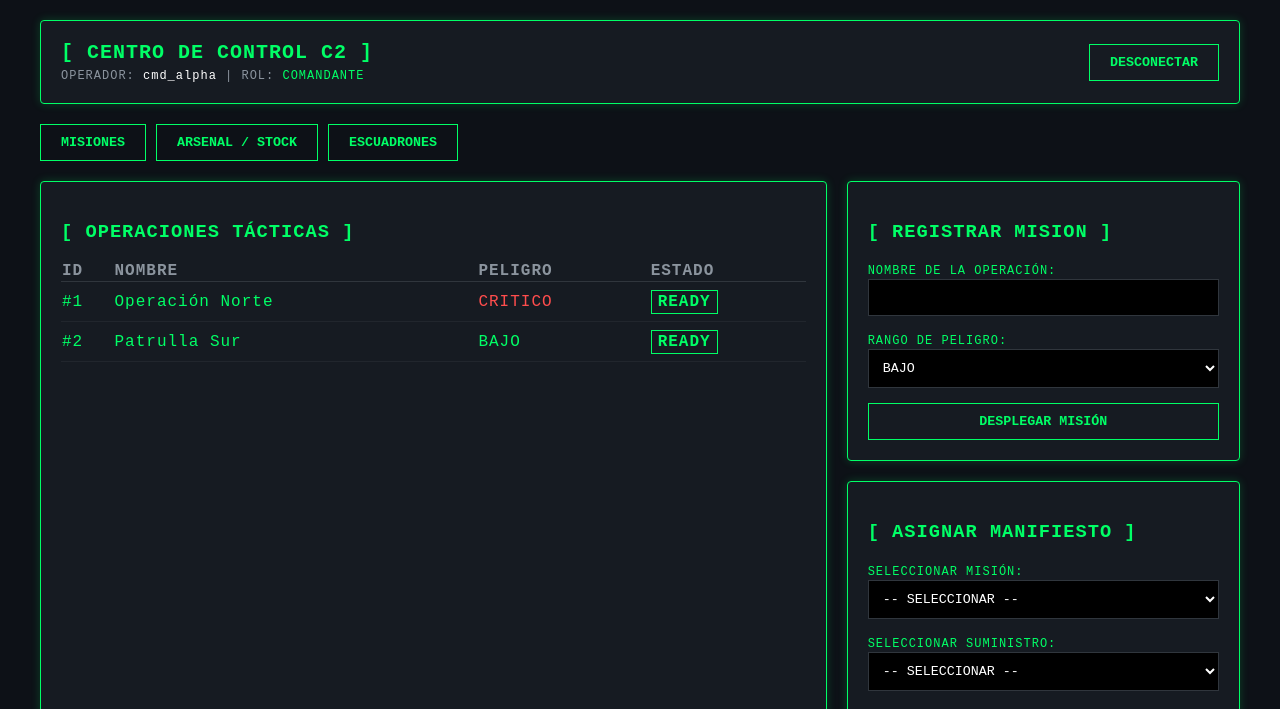
Test: Dashboard C2 y Subcomponentes (React) › renderiza datos iniciales, navega entre las 3 pestañas y actualiza estado vía WebSocket
Expected: the heading "[ CENTRO DE CONTROL C2 ]" is shown, [61,41,373,64]
Expected: the text "Operación Norte" is shown, [114,282,477,322]
Click the button "ARSENAL / STOCK".
click(237, 142)  # box [156,124,318,161]
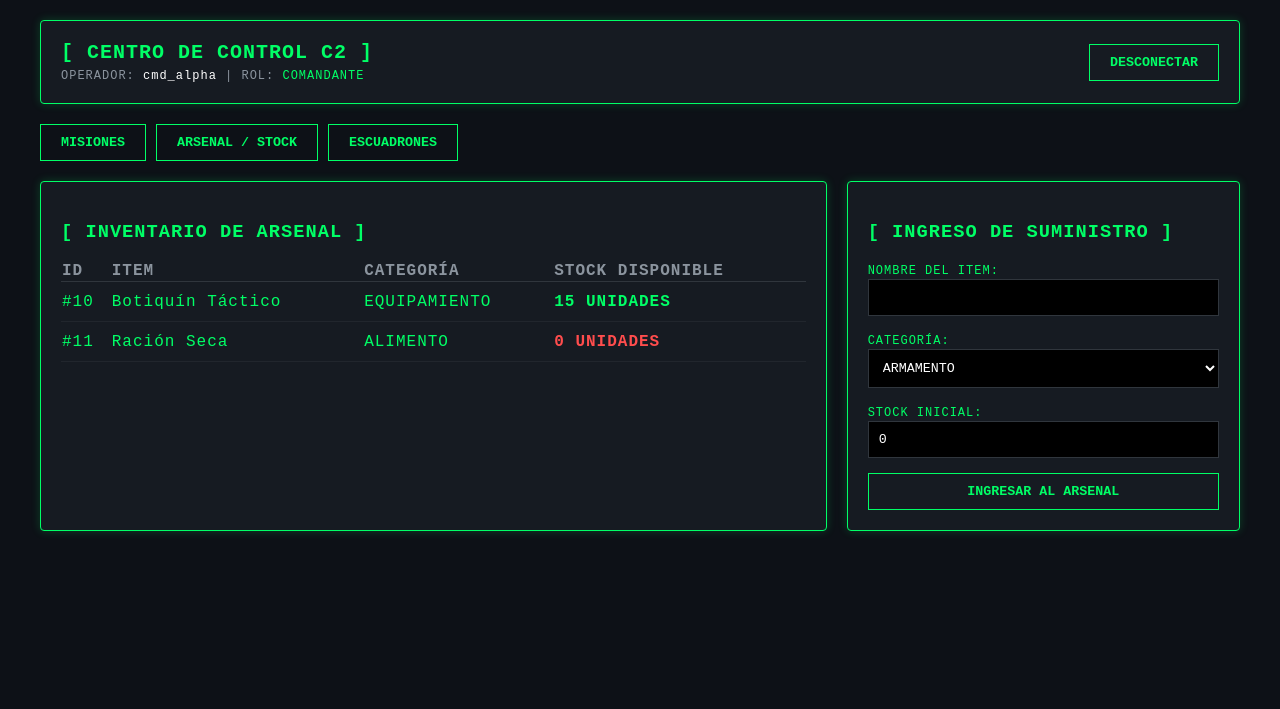
Expected: the text "Botiquín Táctico" is shown, [111,282,363,322]
Expected: the heading "[ INGRESO DE SUMINISTRO ]" is shown, [868,221,1219,243]
Click the button "ESCUADRONES".
click(393, 142)  # box [328,124,458,161]
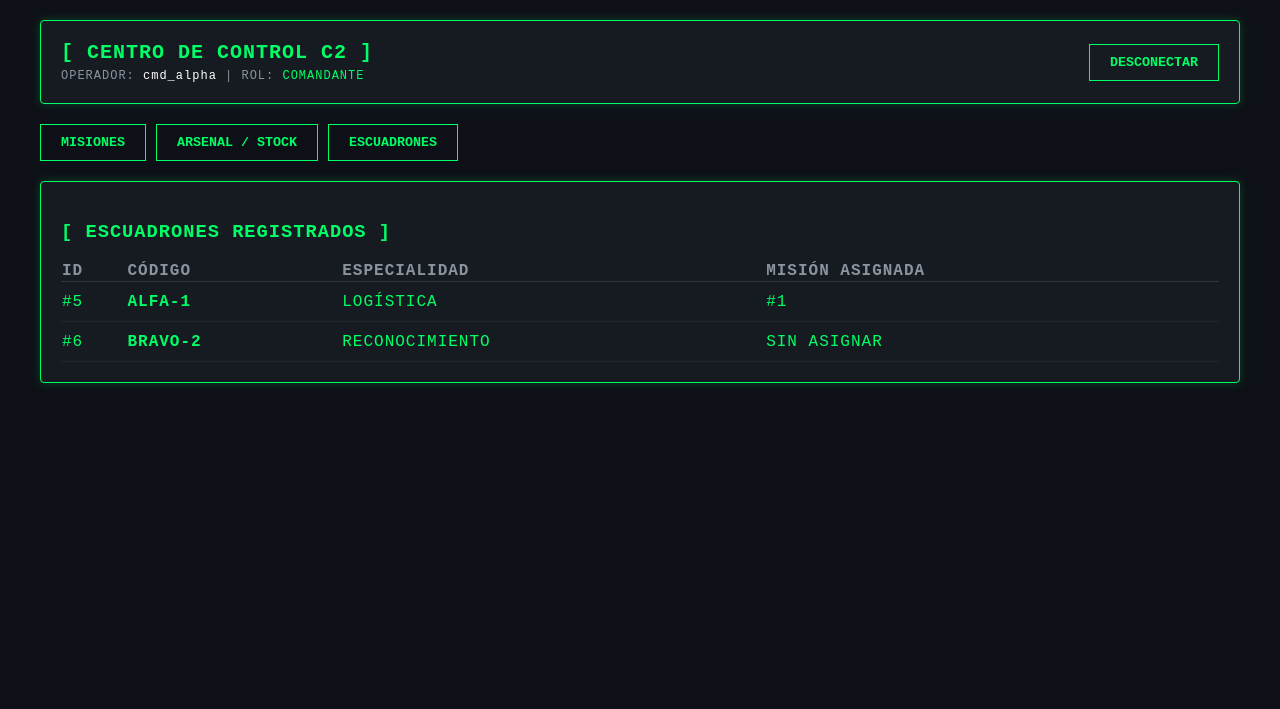
Expected: the text "ALFA-1" is shown, [127,293,191,311]
Expected: the text "SIN ASIGNAR" is shown, [765,322,1219,362]
Click the button "MISIONES".
click(93, 142)  # box [40,124,146,161]
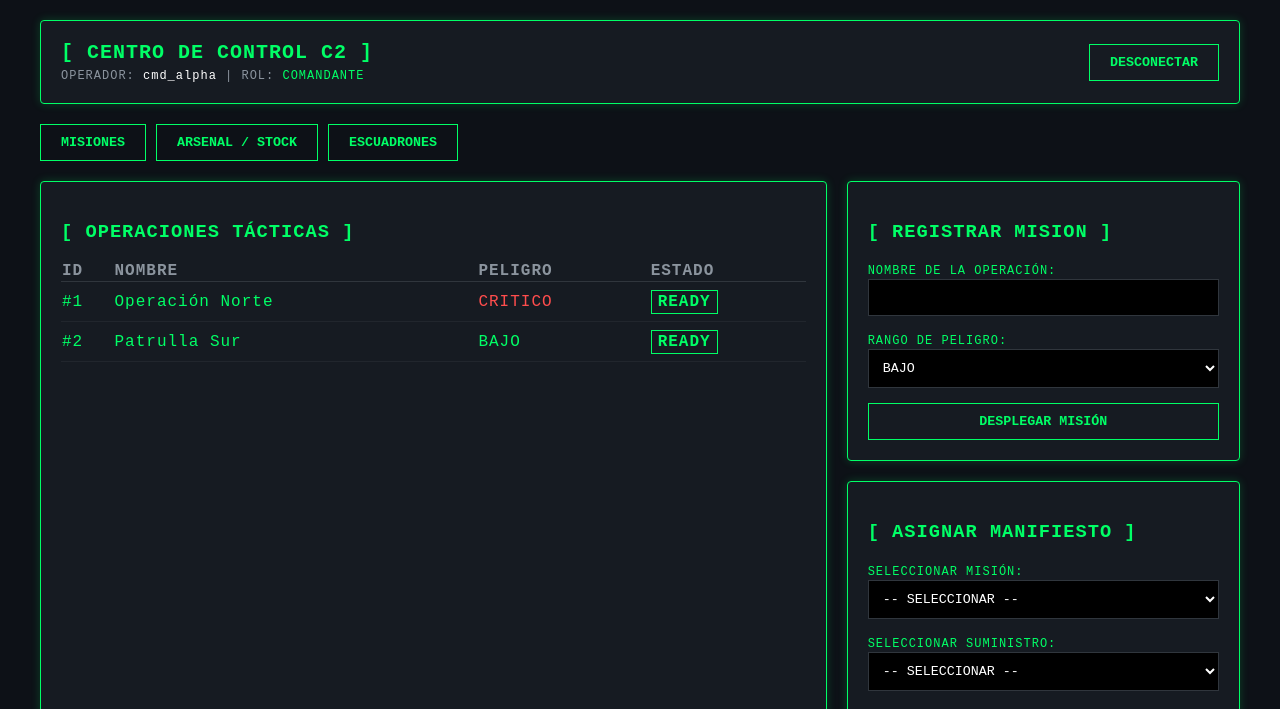
Expected: the heading "[ OPERACIONES TÁCTICAS ]" is shown, [61,221,354,243]
